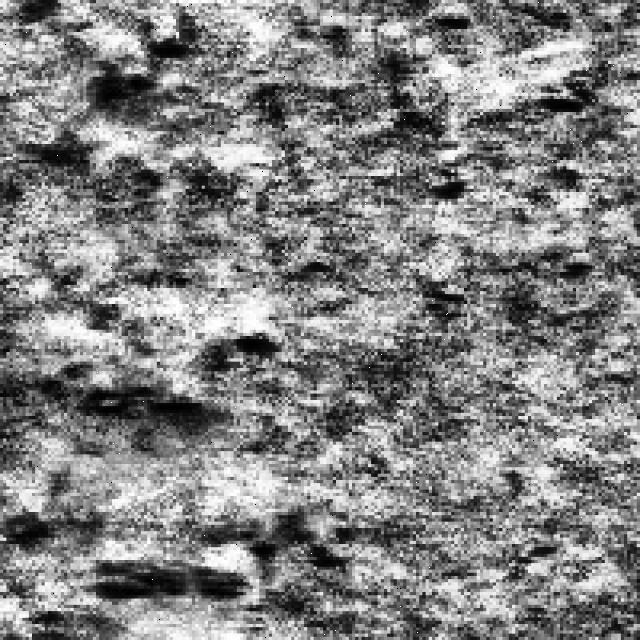Crazing: (0, 320, 262, 445), (35, 28, 189, 198), (6, 506, 253, 608), (419, 60, 595, 202)
